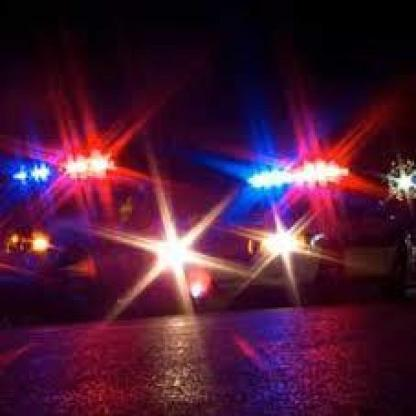priority: (5, 130, 139, 216), (230, 150, 374, 228)
